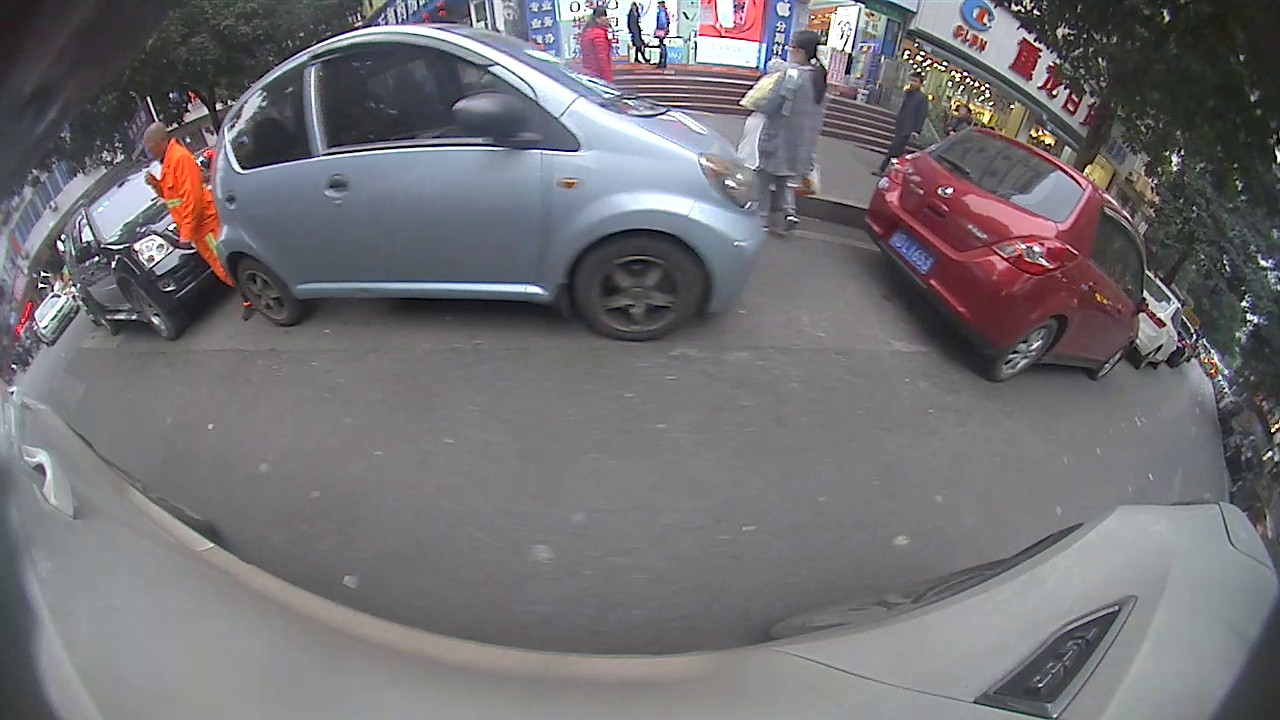car: (213, 22, 769, 343), (865, 125, 1152, 384), (61, 153, 213, 342), (1129, 268, 1184, 370), (30, 291, 80, 347)
front: (576, 234, 705, 345), (128, 284, 178, 340), (1094, 344, 1132, 382)
person: (143, 120, 254, 321), (782, 28, 826, 234), (870, 72, 926, 178), (580, 5, 615, 81)
rear: (225, 254, 300, 327), (987, 318, 1065, 386), (1135, 346, 1163, 371)
